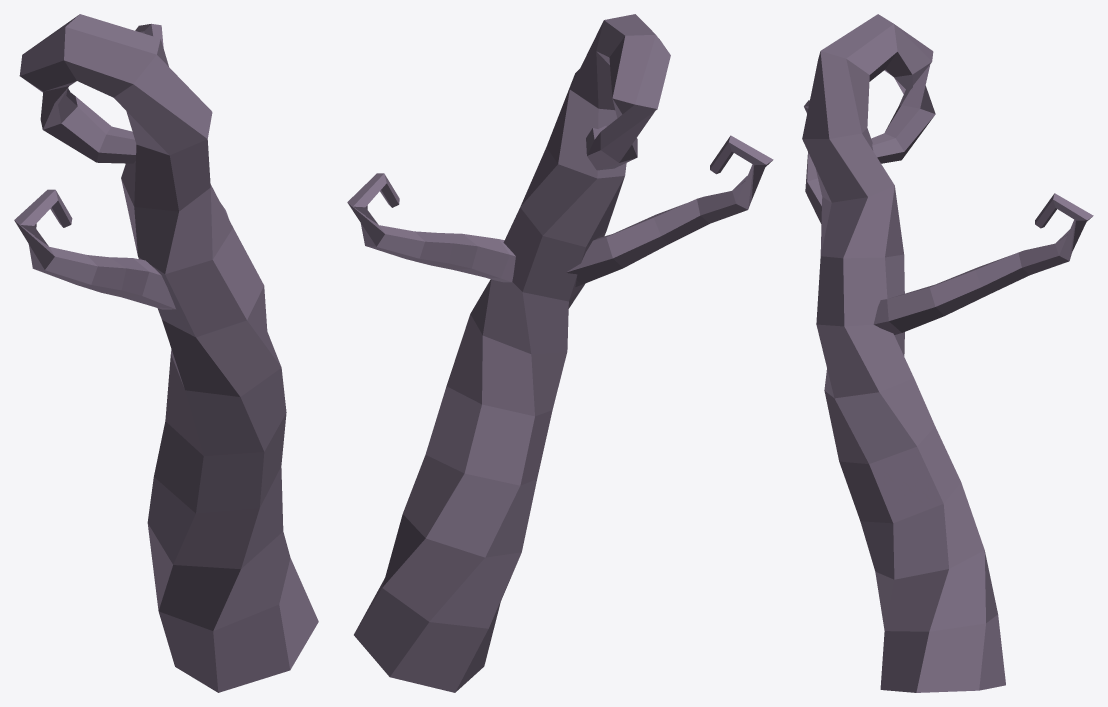
The model's file is goth_tree_rose.glb.
3 views of the same model, side by side, from view 1: azimuth 30°, elevation 25°; view 2: azimuth 150°, elevation 25°; view 3: azimuth 270°, elevation 25° (orthographic). The views are drawn at different scales.
Parts seen in each view (by area): view 1: GothTree; view 2: GothTree; view 3: GothTree.
Part boxes in pixels (x1,y1,x2,y2): GothTree: [14, 14, 318, 692]; GothTree: [347, 14, 773, 692]; GothTree: [802, 14, 1093, 692].
Size of what is drawn, in the model's own units: 2.55 by 4.84 by 2.13.
